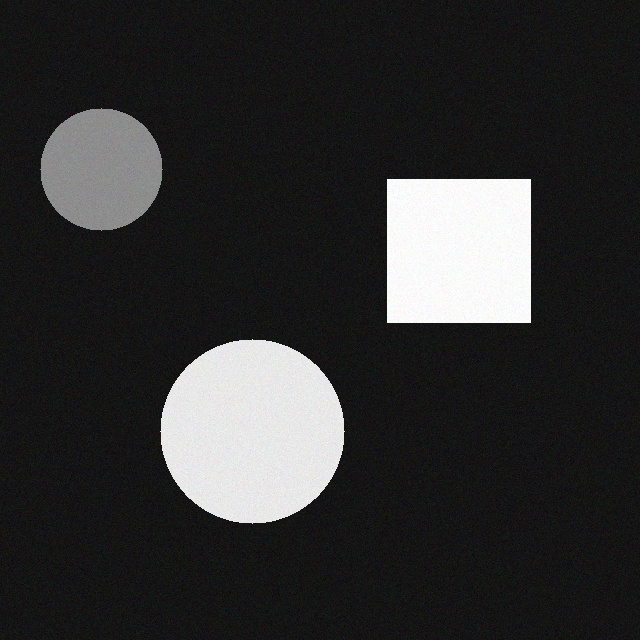circle: (154, 352, 338, 536), (34, 121, 156, 243)
square: (381, 192, 524, 335)
